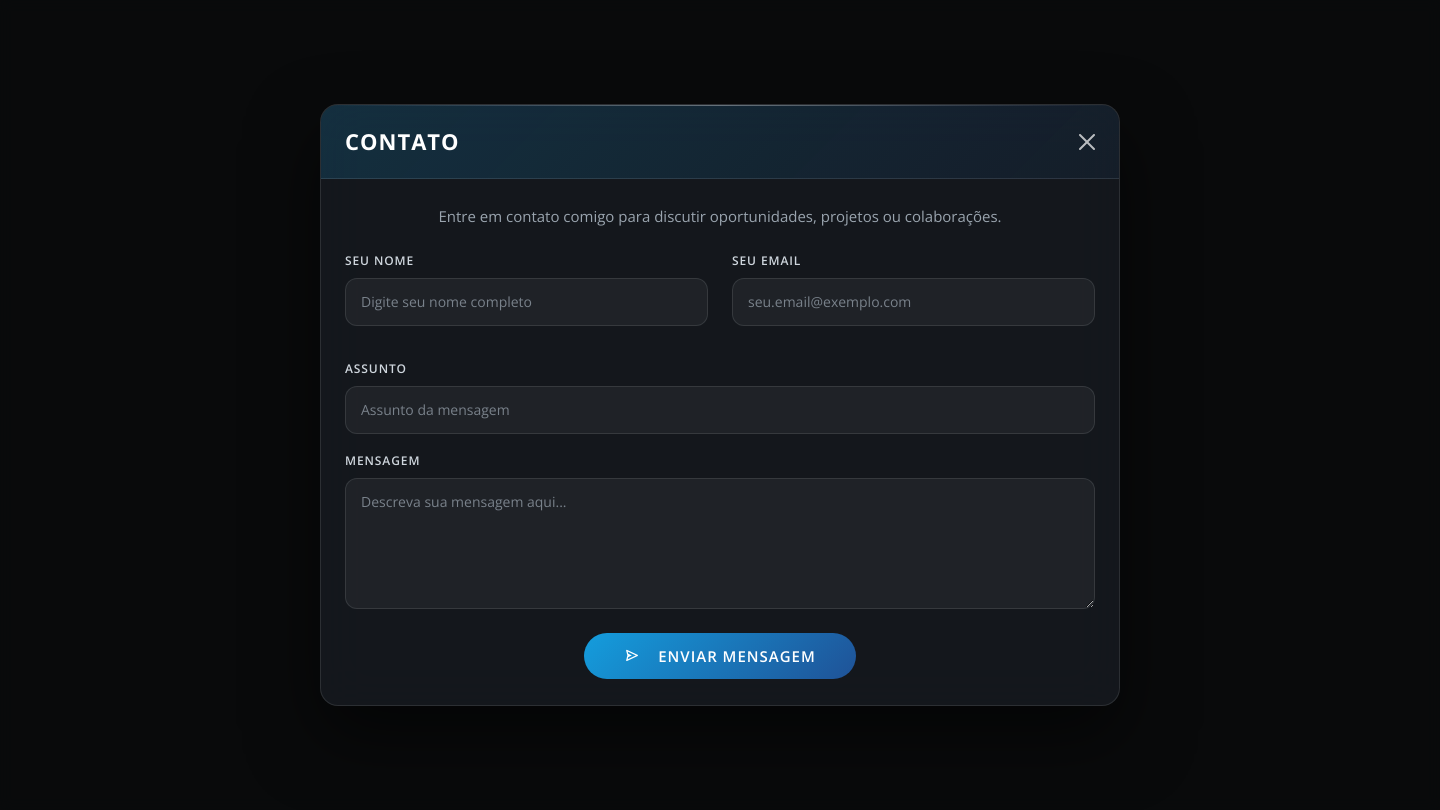
it: <ContactModal /> › envia com as credenciais do ambiente e limpa o formulário
In the field labelled "Seu Nome": (526,302) [345,278,708,326], type "Maria Souza"
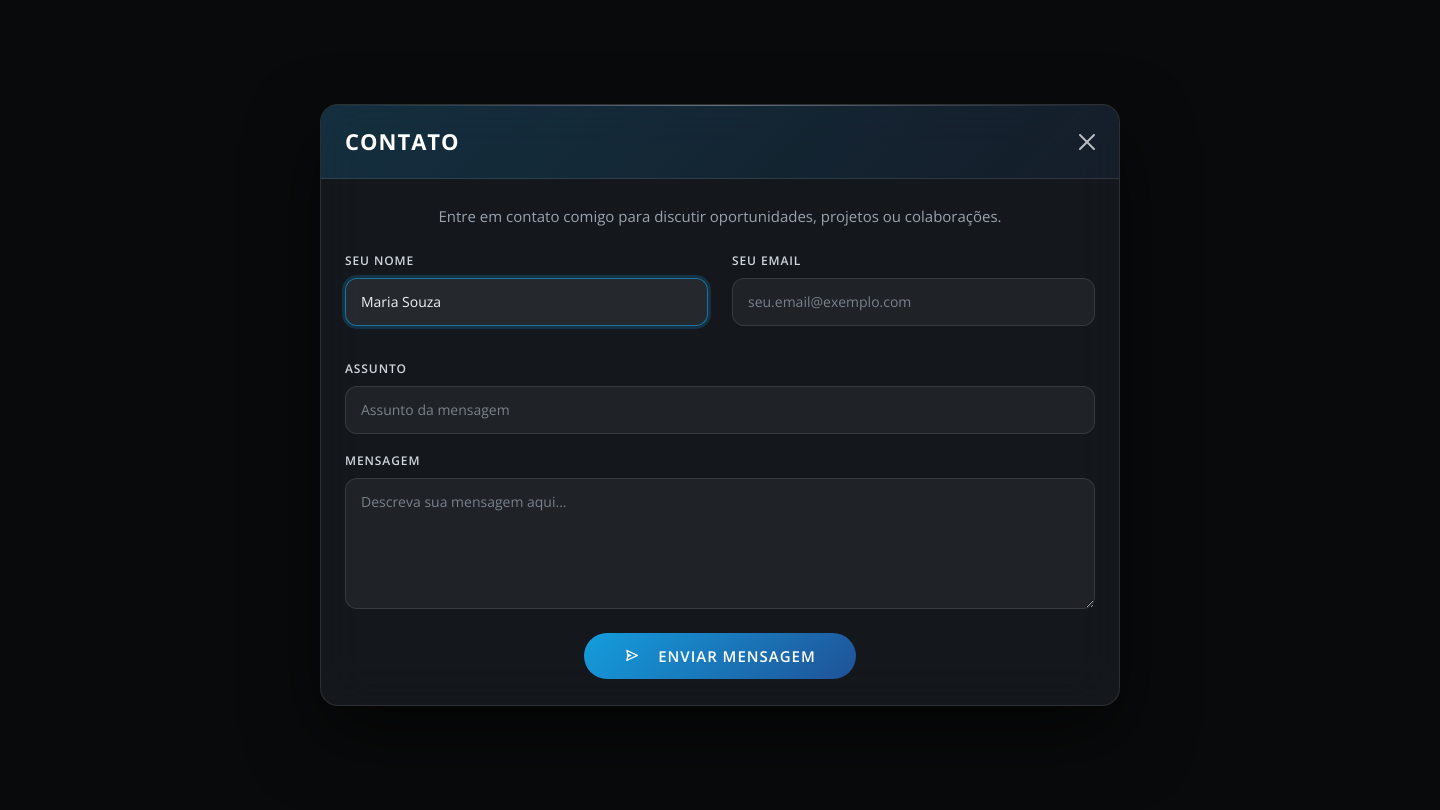
In the field labelled "Seu Email": (914,302) [732,278,1095,326], type "maria@exemplo.com"
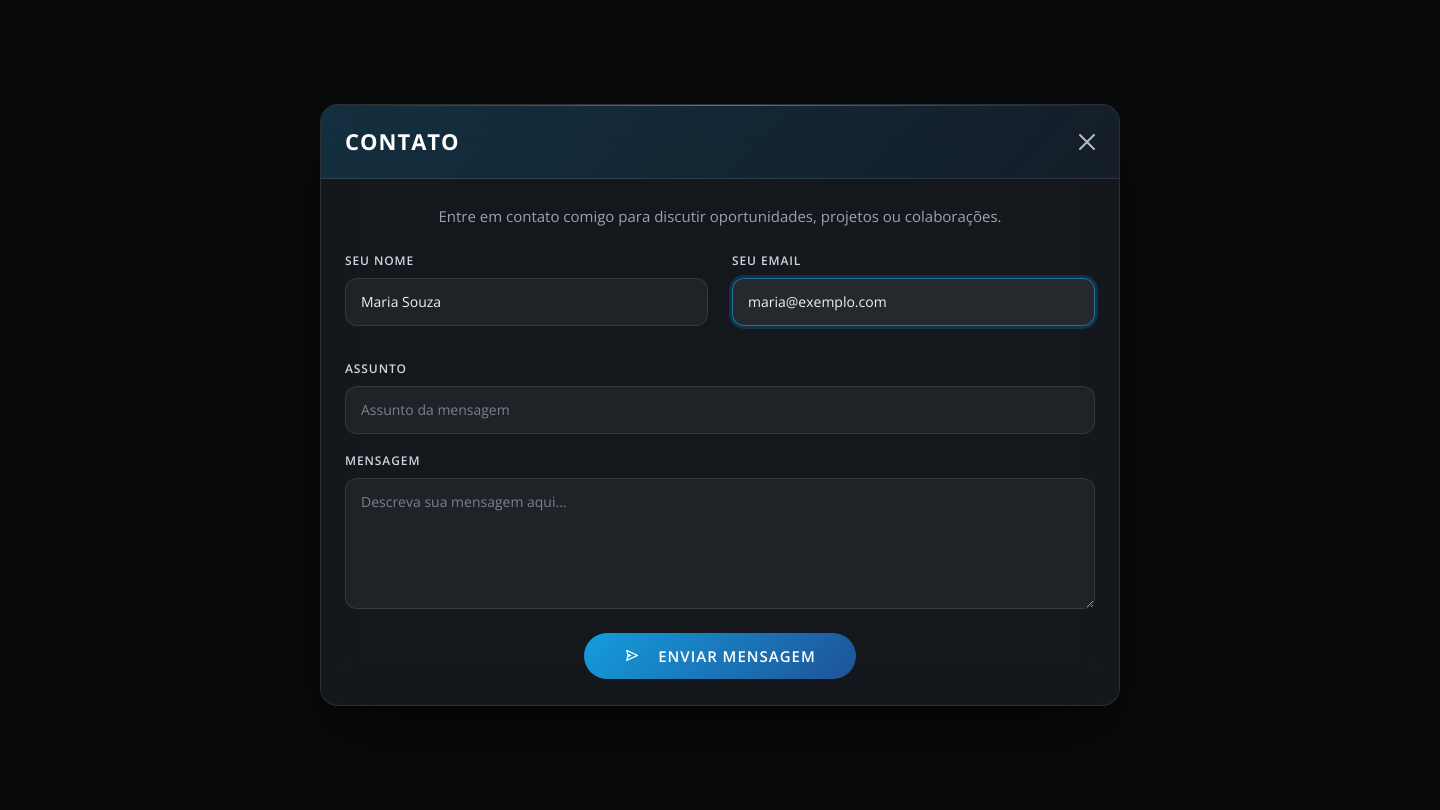
In the field labelled "Assunto": (720,410) [345,386,1095,434], type "Oportunidade"
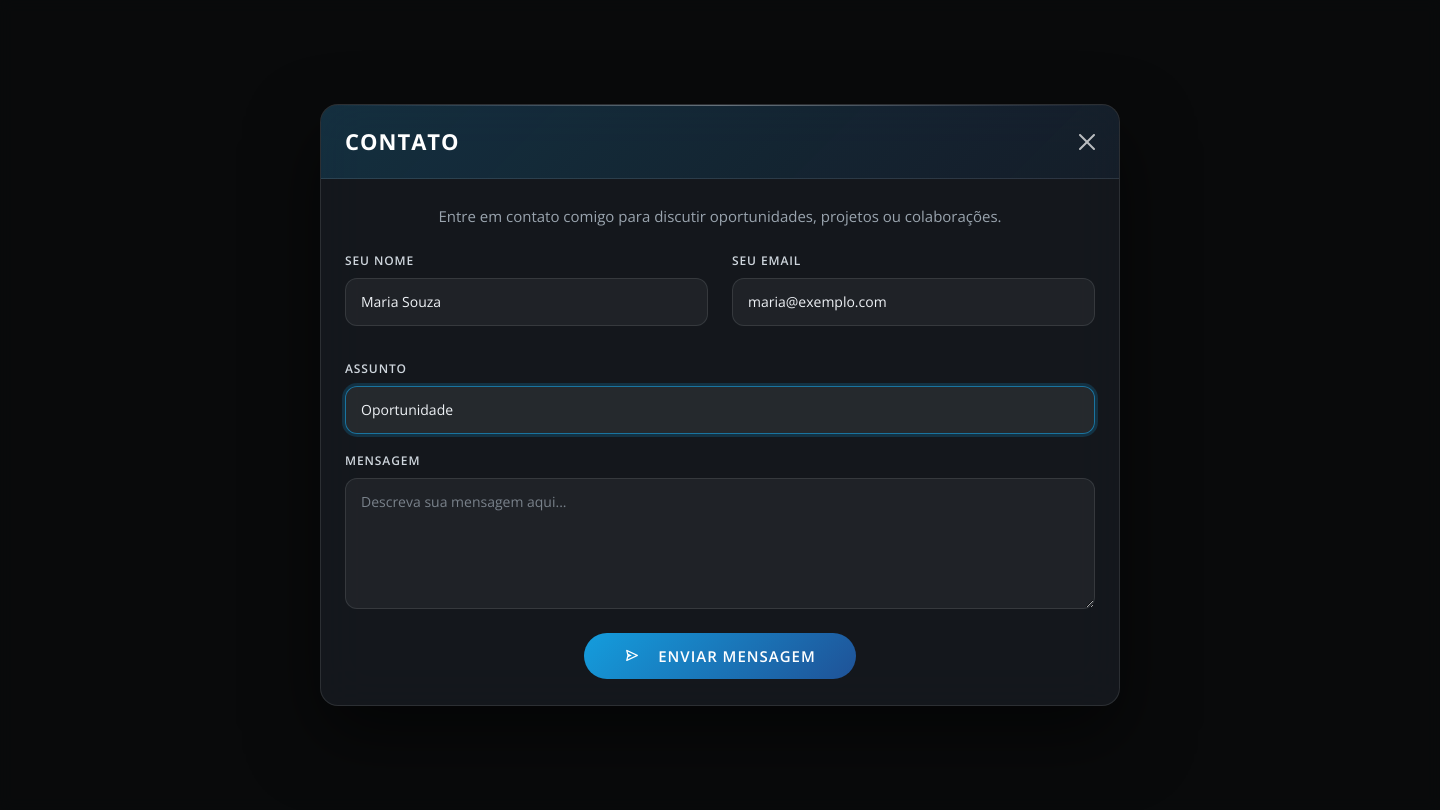
In the text box labelled "Mensagem": (720,543) [345,478,1095,608], type "Olá, temos uma vaga de QA."
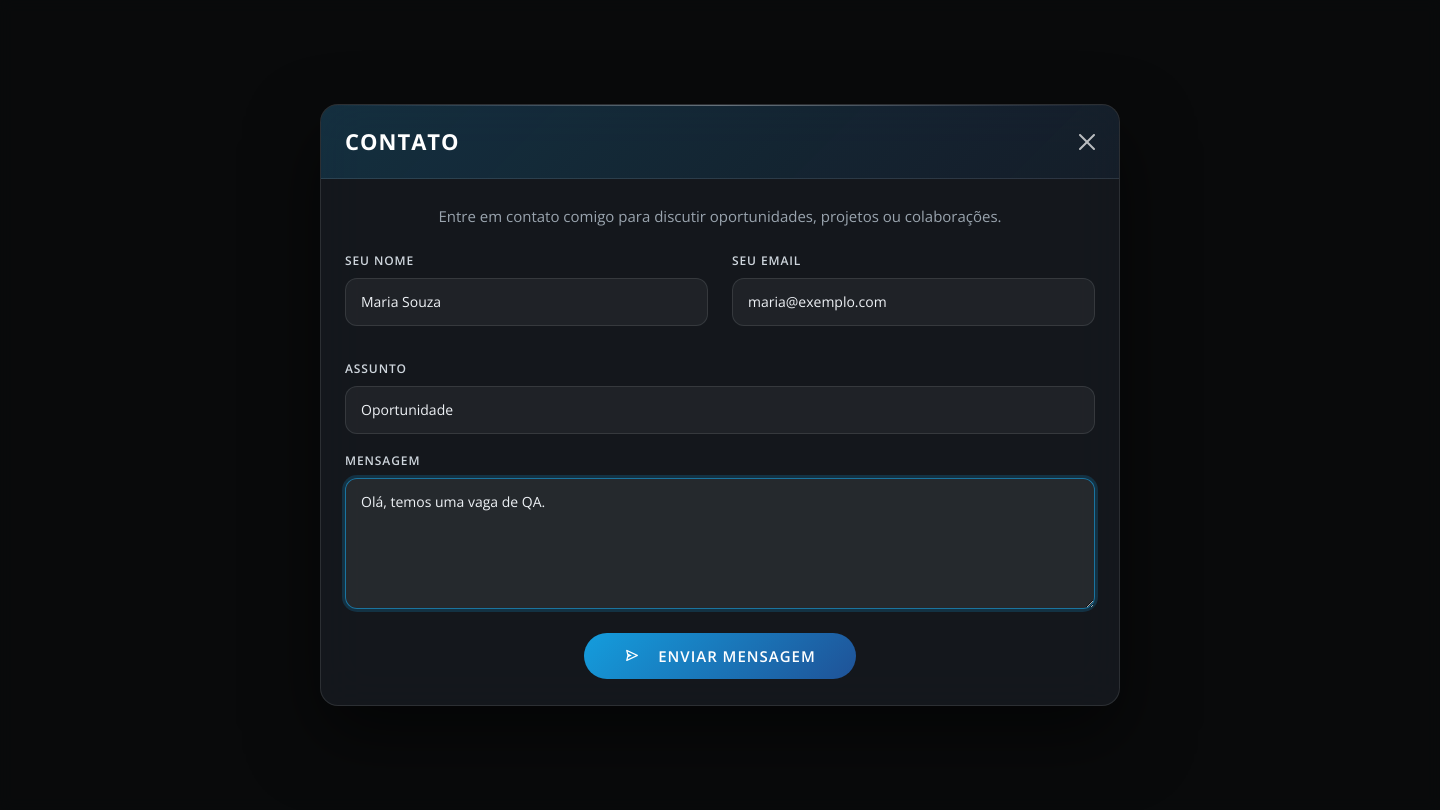
Click the button "Enviar Mensagem": (720,656) [584,632,856,679]
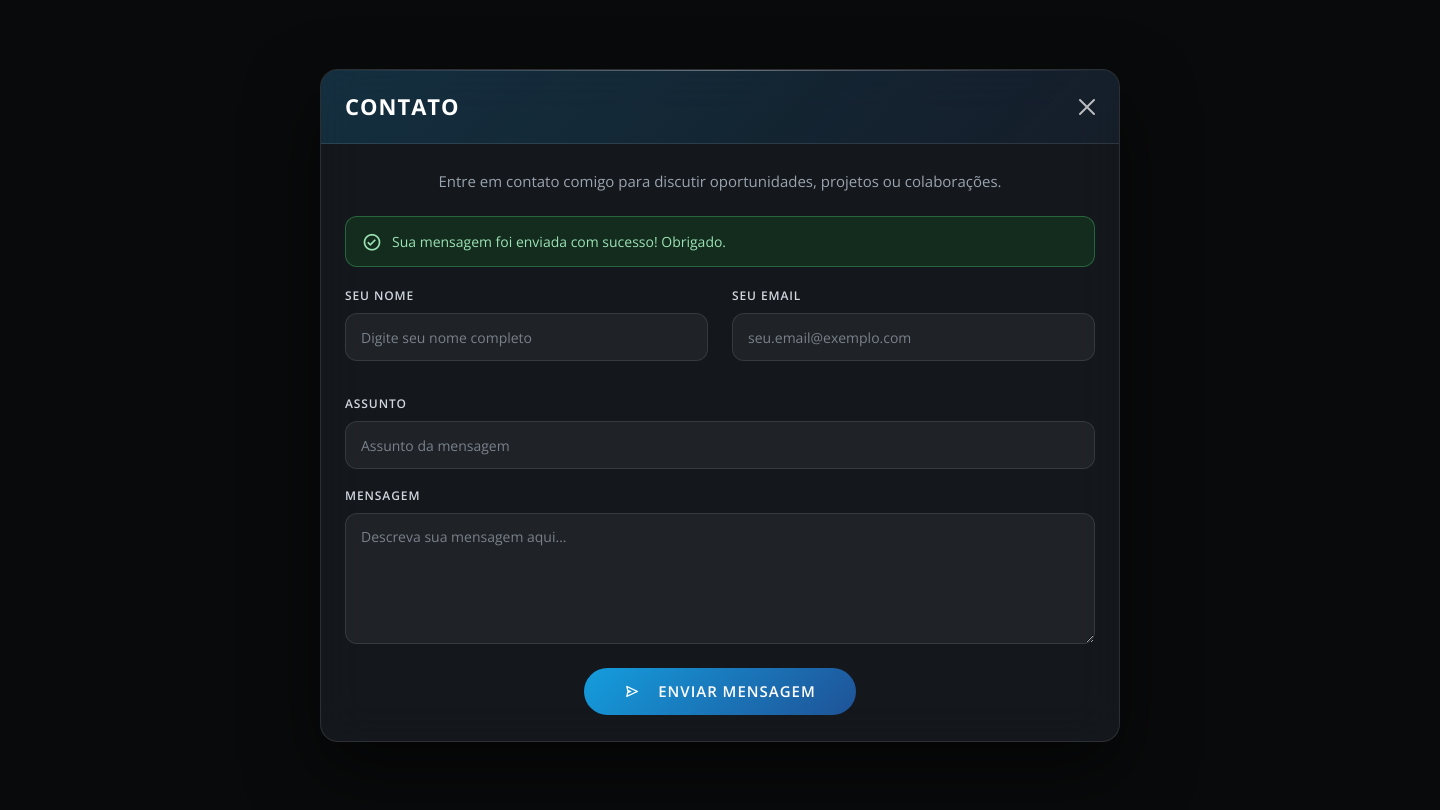
Now the text "Sua mensagem foi enviada com sucesso! Obrigado." is shown, box [345,216,1095,267]
Now the field labelled "Seu Nome" is empty, box [345,313,708,361]
